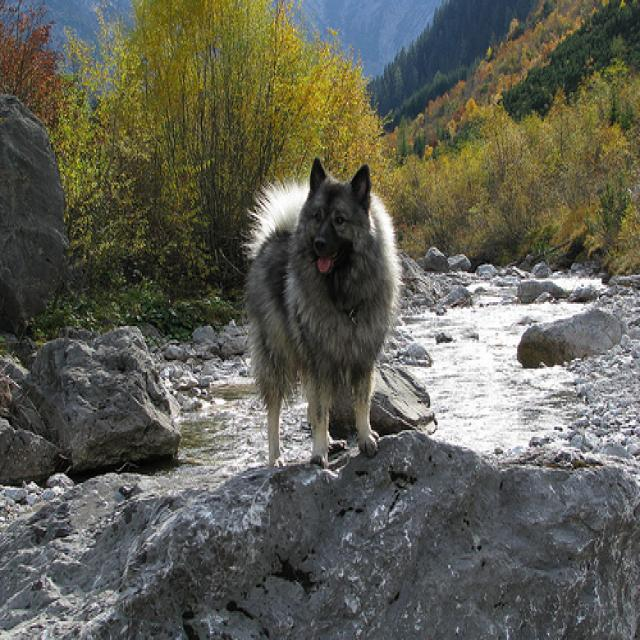dog-keeshond: (236, 147, 408, 478)
